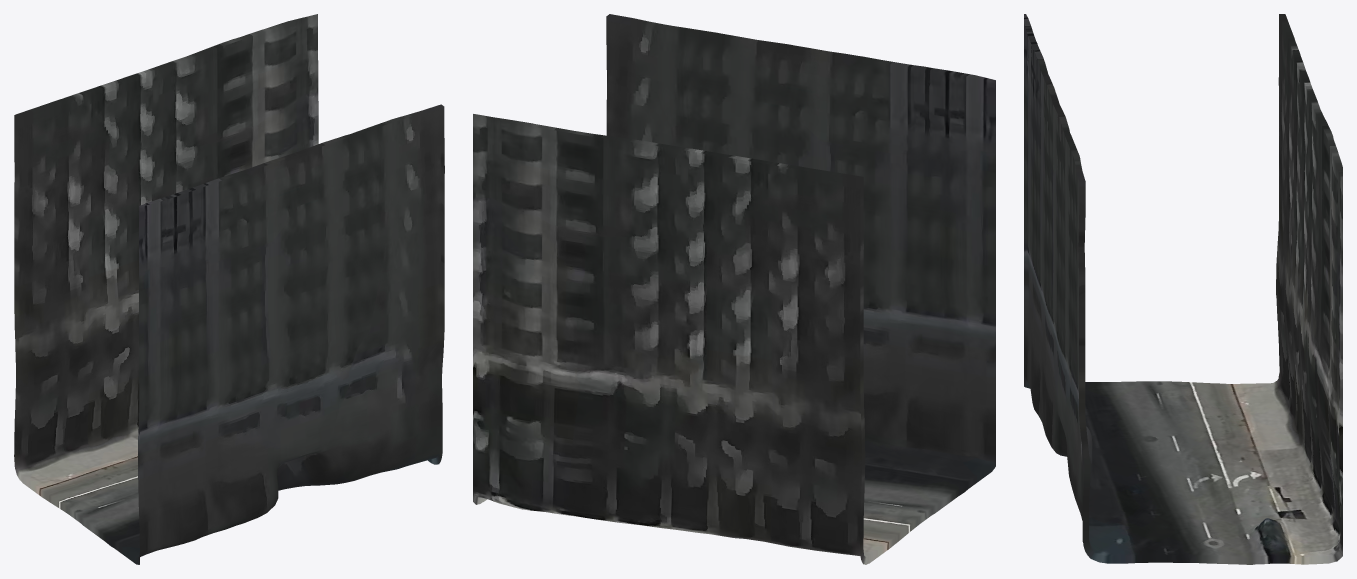
File: z20-167765-405239-h0-yup-uvflip-v3-world.glb
3 views of the same model, side by side, from view 1: azimuth 30°, elevation 25°; view 2: azimuth 150°, elevation 25°; view 3: azimuth 270°, elevation 25° (orthographic). The views are drawn at different scales.
Size of the model in its own units: 30.16 by 32 by 24.16.
1 material, 1 textured.
